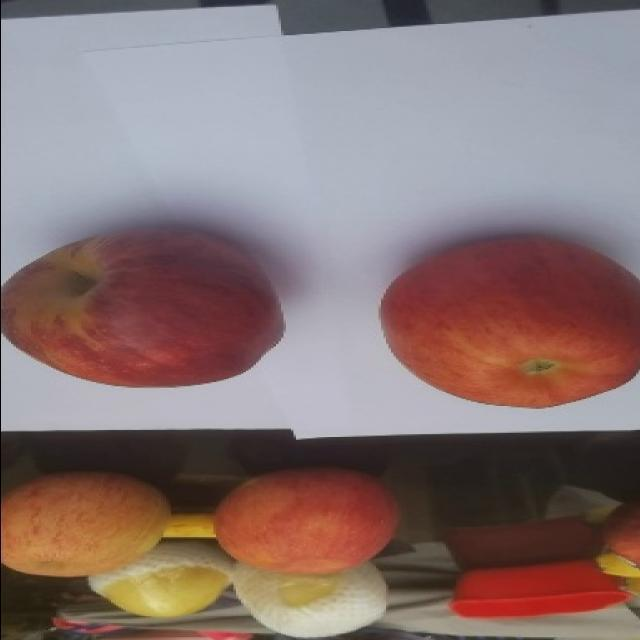Apple: (0, 224, 285, 388), (378, 232, 639, 409), (213, 466, 401, 575)
